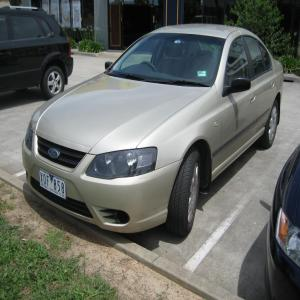Vehicle-registration-plate: (41, 171, 67, 204)
